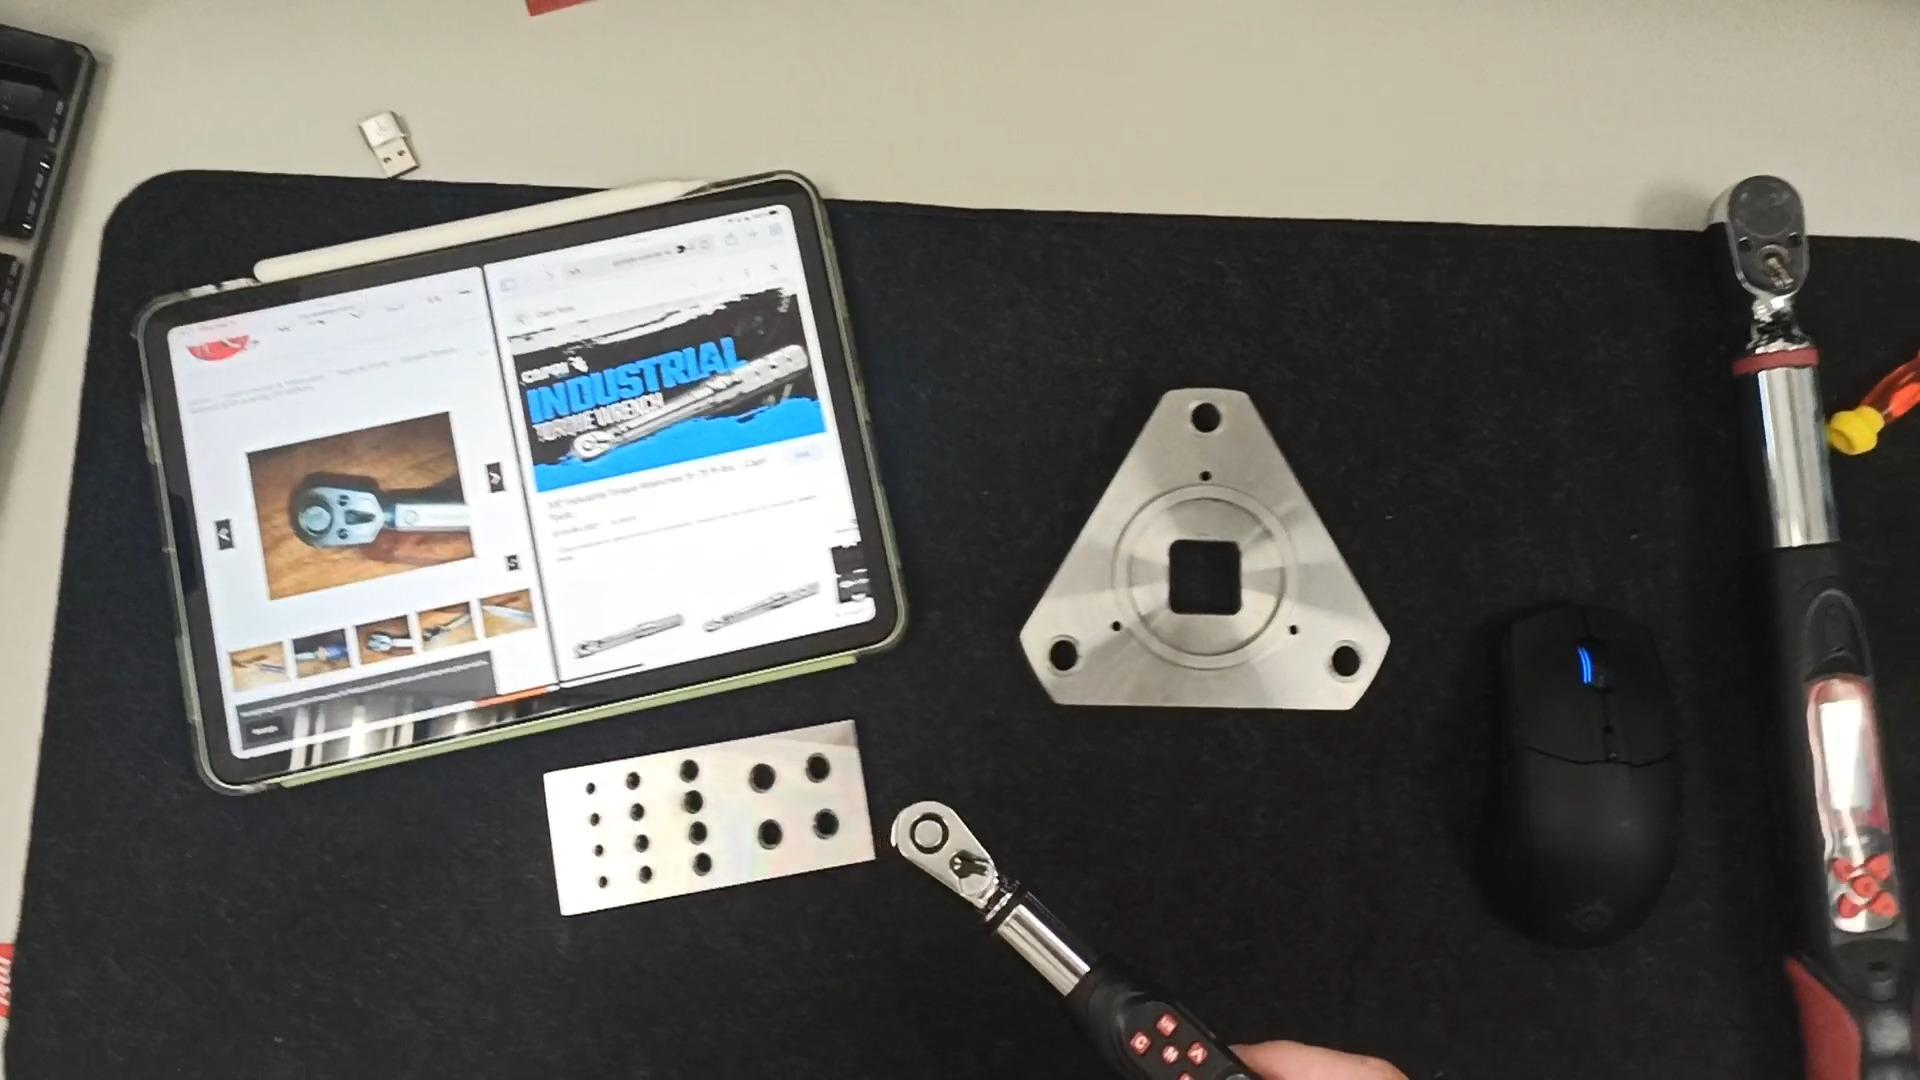Tool: (1705, 167, 1829, 349), (887, 791, 996, 915), (293, 476, 377, 551)
hole: (1315, 644, 1383, 694), (1174, 400, 1241, 446), (1035, 637, 1095, 683), (731, 818, 793, 856), (786, 756, 845, 794), (790, 808, 849, 847), (725, 761, 782, 795), (662, 754, 712, 786), (663, 791, 713, 820), (667, 822, 715, 848), (671, 857, 717, 884), (605, 769, 646, 791), (608, 803, 645, 825), (613, 839, 649, 860), (617, 868, 653, 887), (568, 782, 601, 802), (571, 811, 604, 829), (575, 845, 608, 864), (579, 874, 612, 893)
